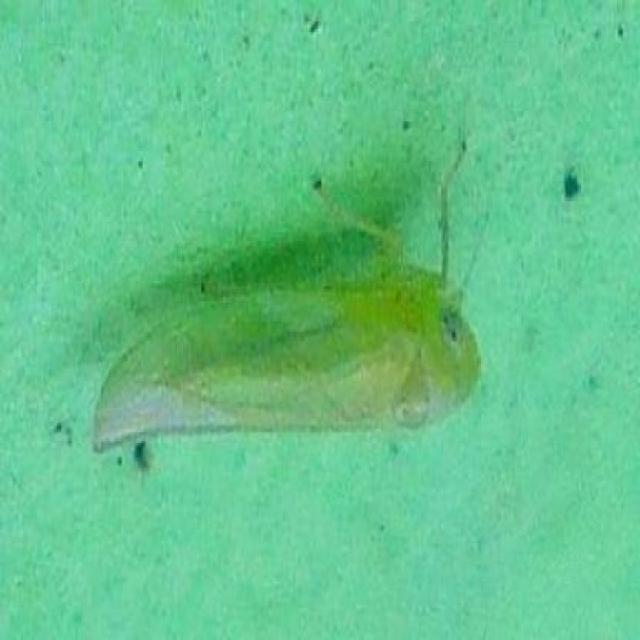green-leafhopper: (85, 257, 483, 461)
